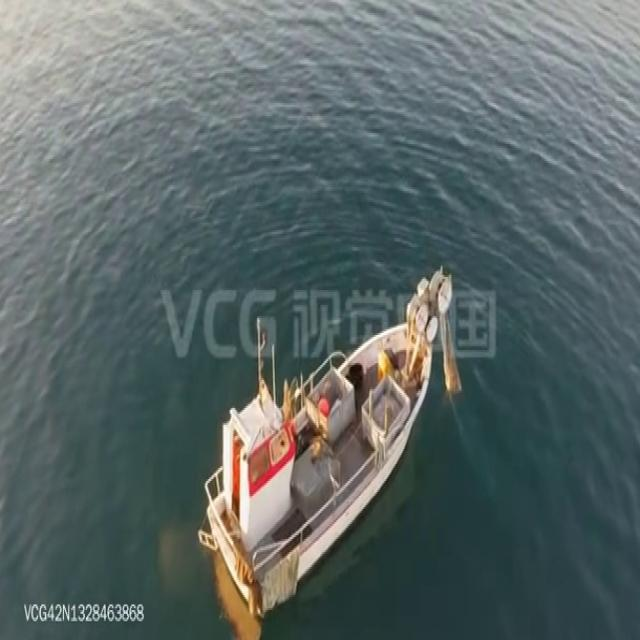houseboat: (200, 272, 457, 604)
